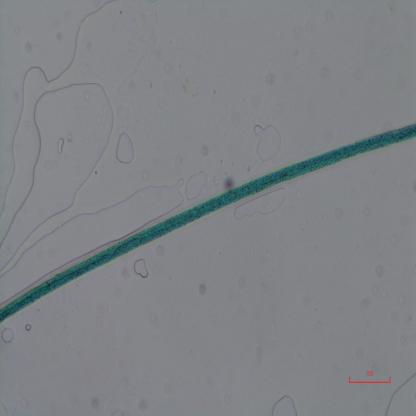Air bubble: (0, 74, 116, 259), (233, 186, 288, 222), (252, 121, 284, 166), (385, 370, 416, 416), (184, 167, 209, 202), (268, 391, 300, 416), (116, 129, 137, 166), (130, 255, 151, 281), (0, 325, 16, 345)
Microfibre: (0, 122, 416, 323)
